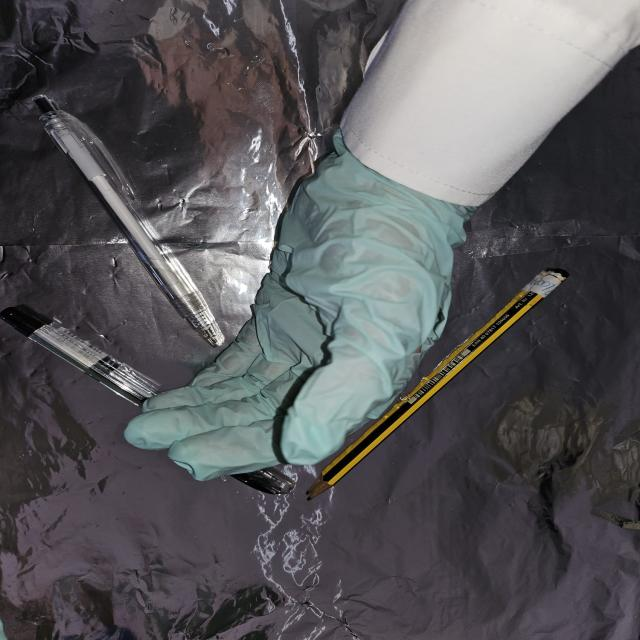gloves_damaged: (124, 147, 480, 485)
